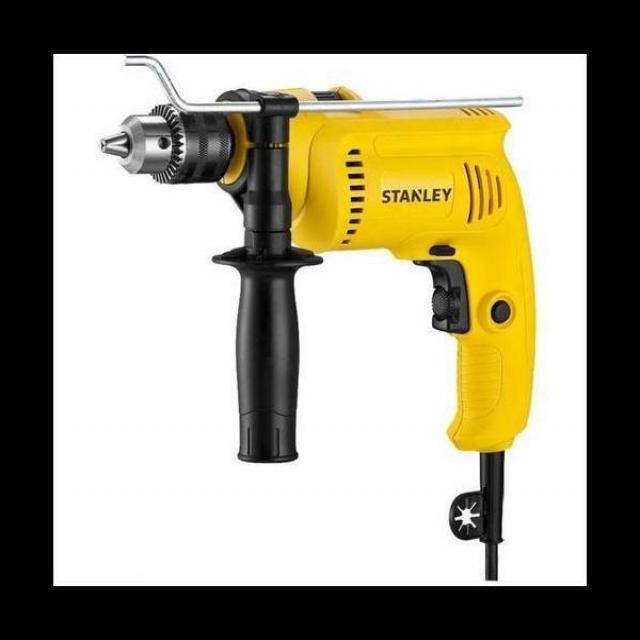drill: (99, 85, 538, 582)
